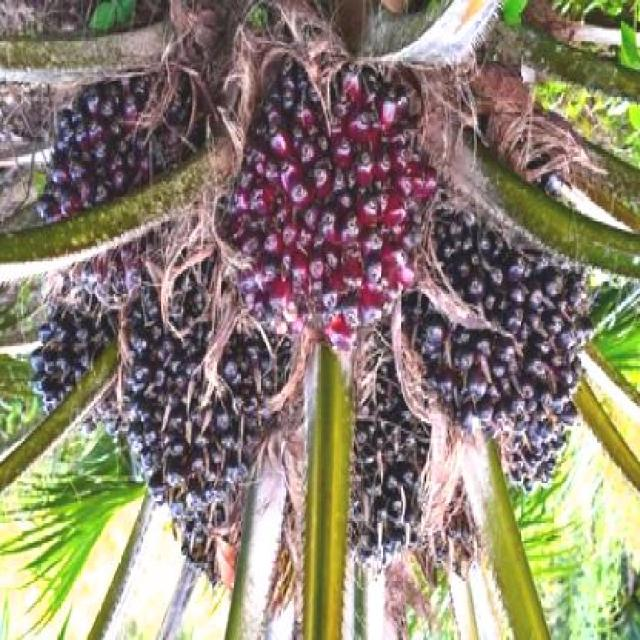palm-oil: (405, 199, 597, 491), (238, 62, 441, 337), (122, 261, 292, 575), (26, 33, 227, 219), (329, 327, 477, 552), (40, 269, 158, 405)
